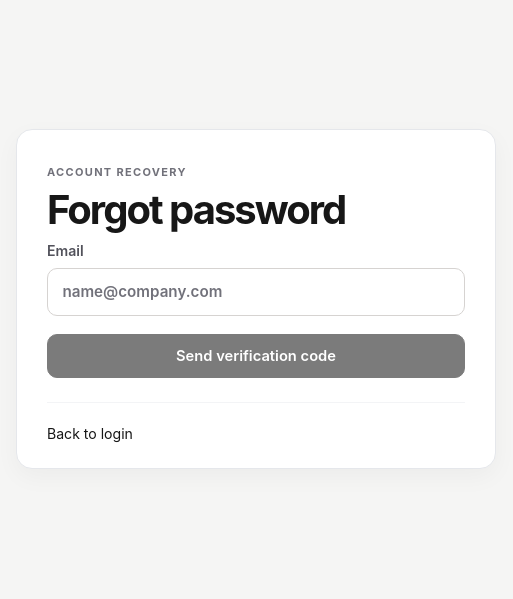
Test: password reset OTP pages › submits the email address and advances to OTP verification
In the field labelled "Email": (256, 292) [47,268,465,316], type "person@example.com"
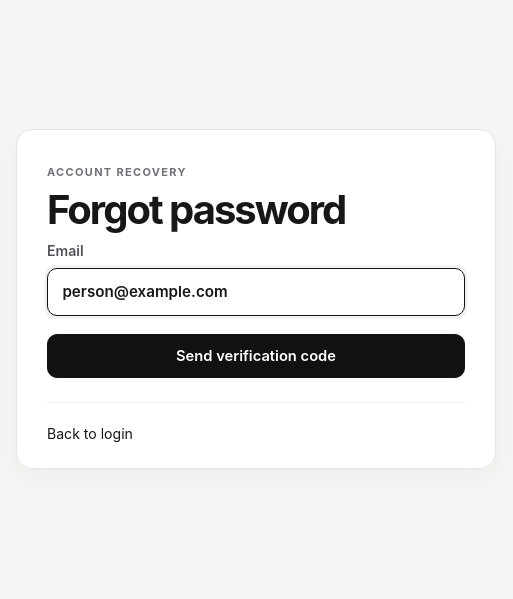
Click the button "Send verification code": (256, 356) [47,334,465,378]
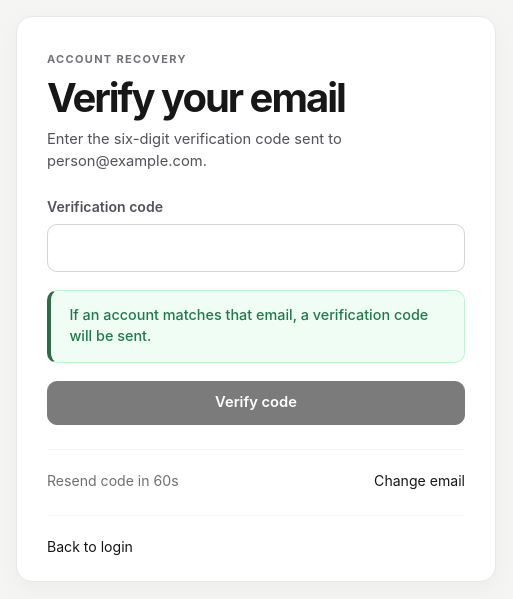
Expected: the heading "Verify your email" is shown, [47,73,345,122]
Expected: the text "If an account matches that email, a verification code will be sent." is shown, [47,290,465,363]
